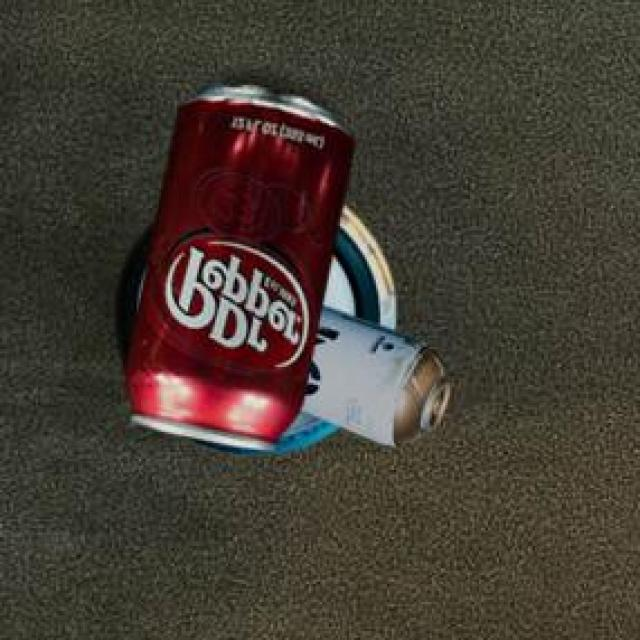logam: (129, 79, 357, 446), (117, 203, 399, 451), (303, 303, 453, 444)
